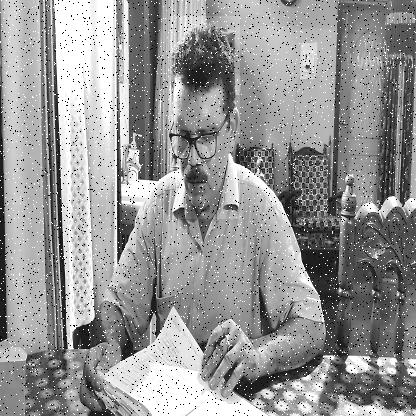Normal: (170, 16, 240, 219)
